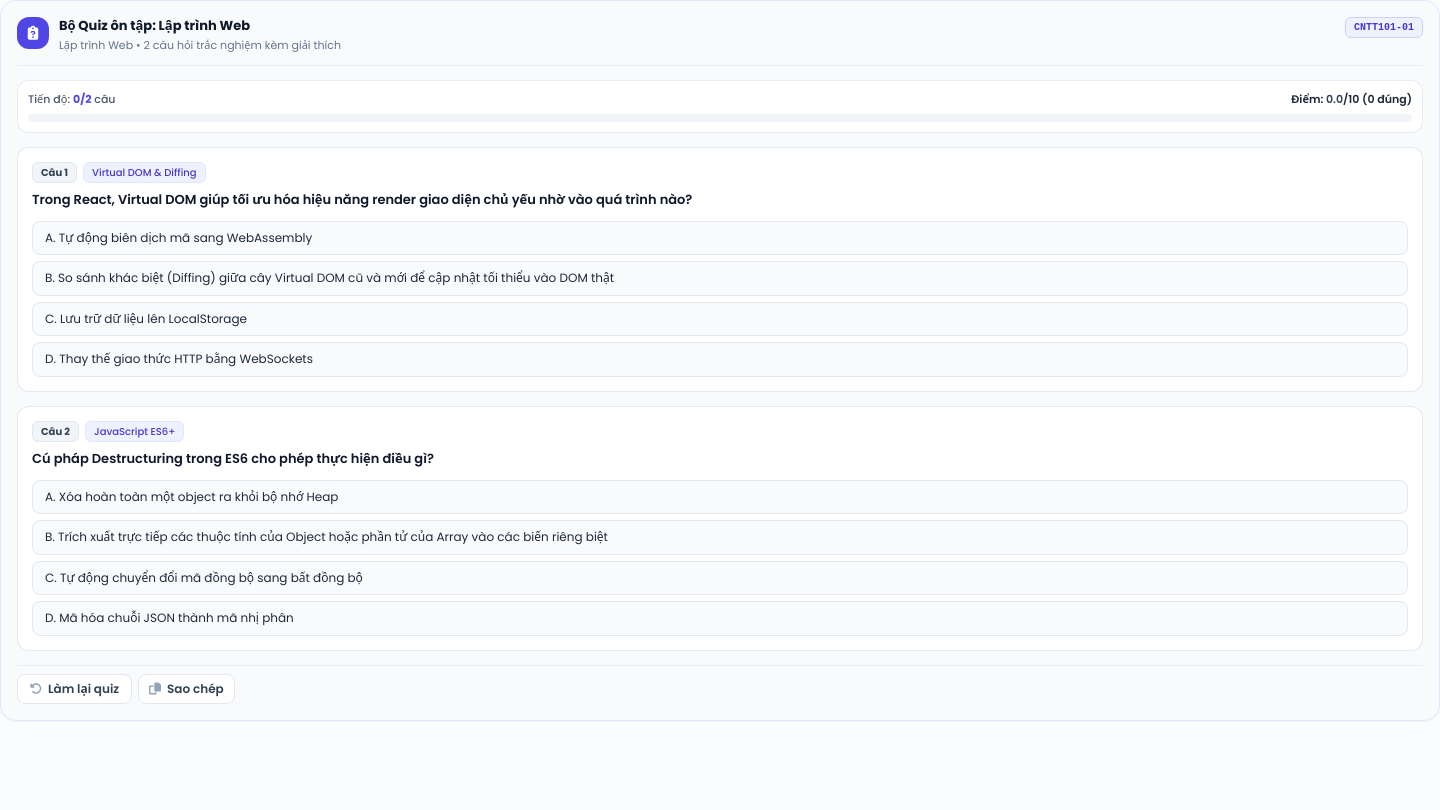
it: InteractiveQuizCard Component › handles correct answer selection and shows rationale
Click the button "So sánh khác biệt (Diffing)". click: (330, 278)
box: [32,261,1408,296]
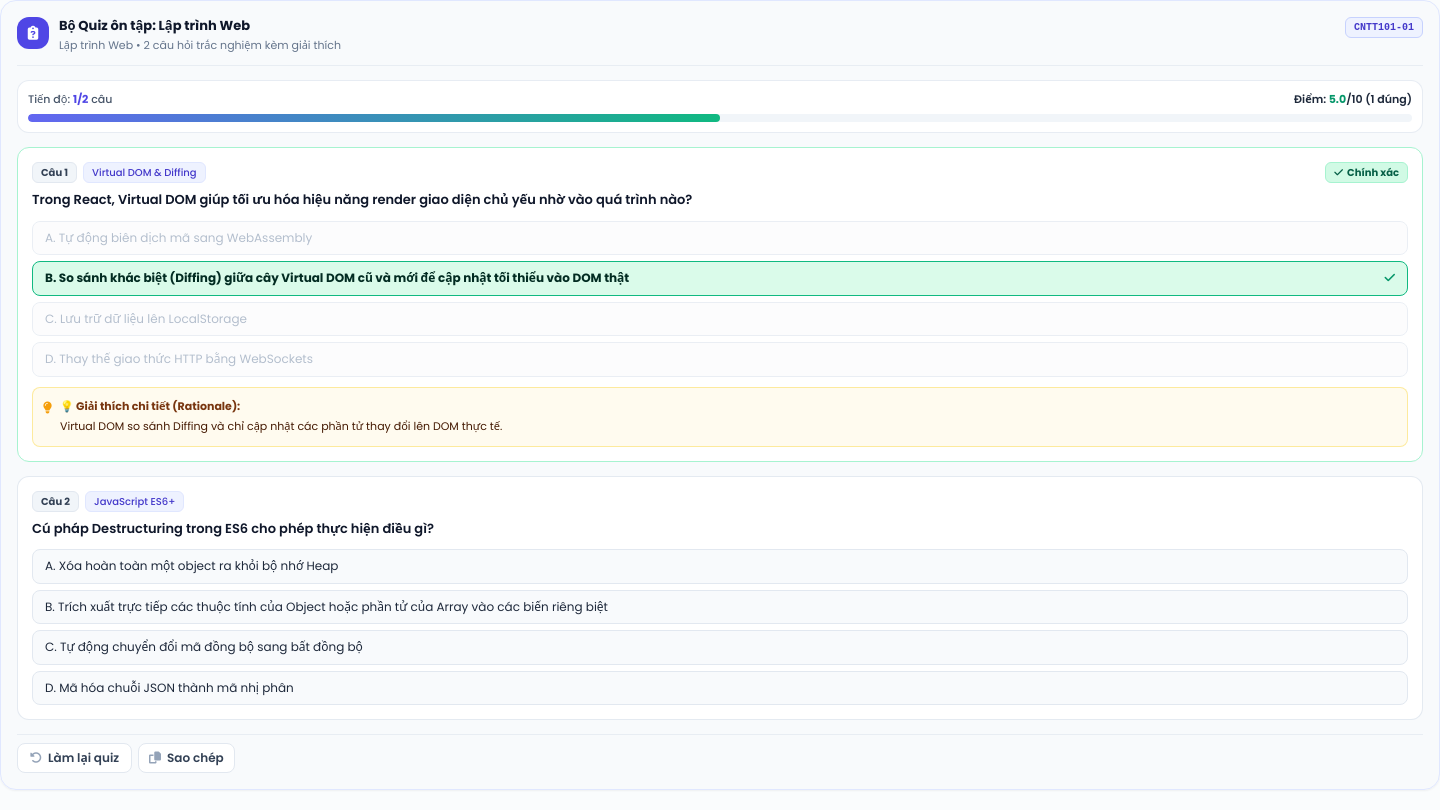
expect the text "Chính xác" is shown: met, box [1347,165,1399,180]
expect the text "5.0" is shown: met, box [1329,91,1346,107]
expect the text "Virtual DOM so sánh Diffing" is shown: met, box [60,418,502,434]
